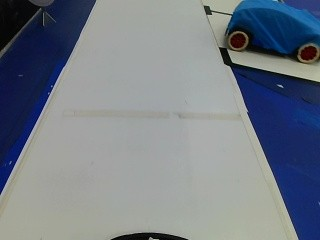car: (219, 0, 318, 61)
